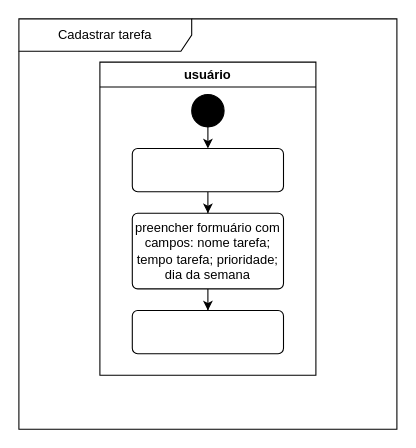
Image size: 416x448. Some labels were removed from this diagram. The centre of each missing label's shape, as x and y in pixels:
"clicar no botão cadastrar" belongs at point (207, 331).
"requisitar página de cadastro" belongs at point (207, 169).
